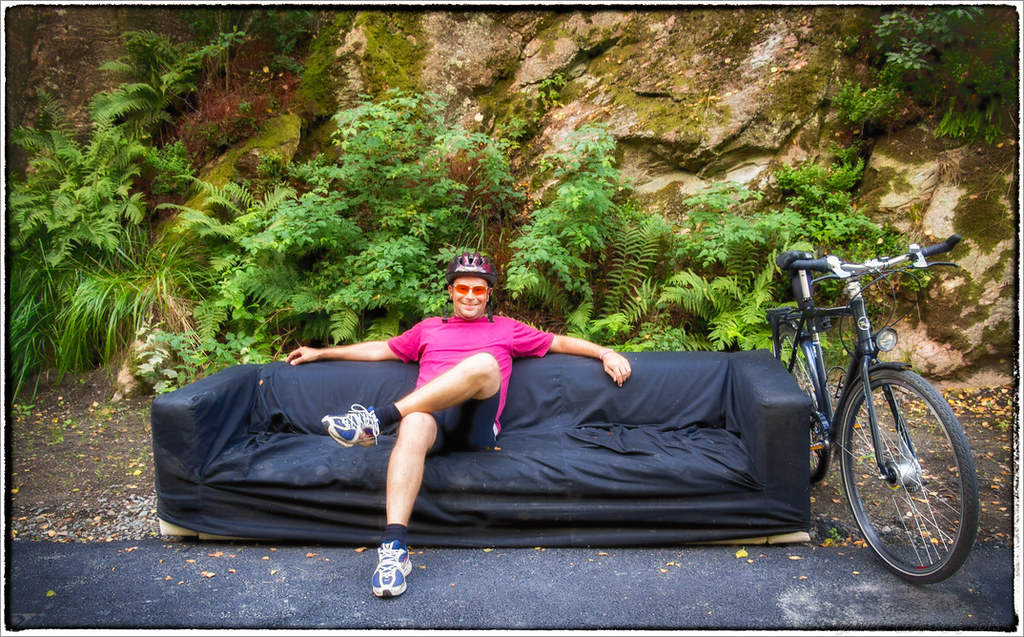cycle: (758, 186, 981, 576)
person: (284, 202, 624, 602)
sofa: (139, 302, 828, 551)
